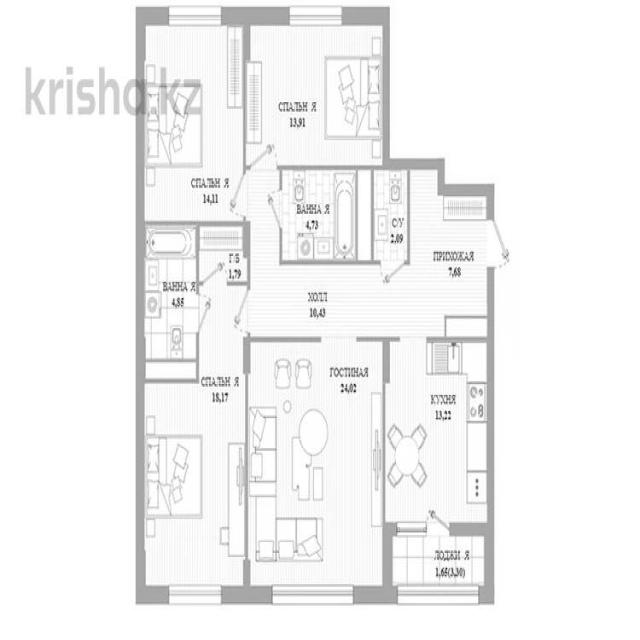balcony: (389, 538, 488, 605)
bathroom: (144, 228, 197, 359), (281, 172, 357, 261), (373, 169, 408, 265)
hallway: (202, 168, 492, 366)
kitchen: (385, 337, 486, 532)
living_room: (248, 340, 384, 596), (244, 17, 386, 165), (143, 381, 239, 592), (144, 20, 242, 220)
